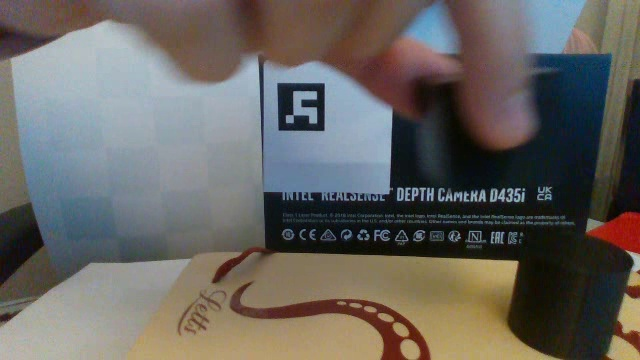cube: (406, 64, 569, 194)
cylindre: (503, 220, 637, 360)
